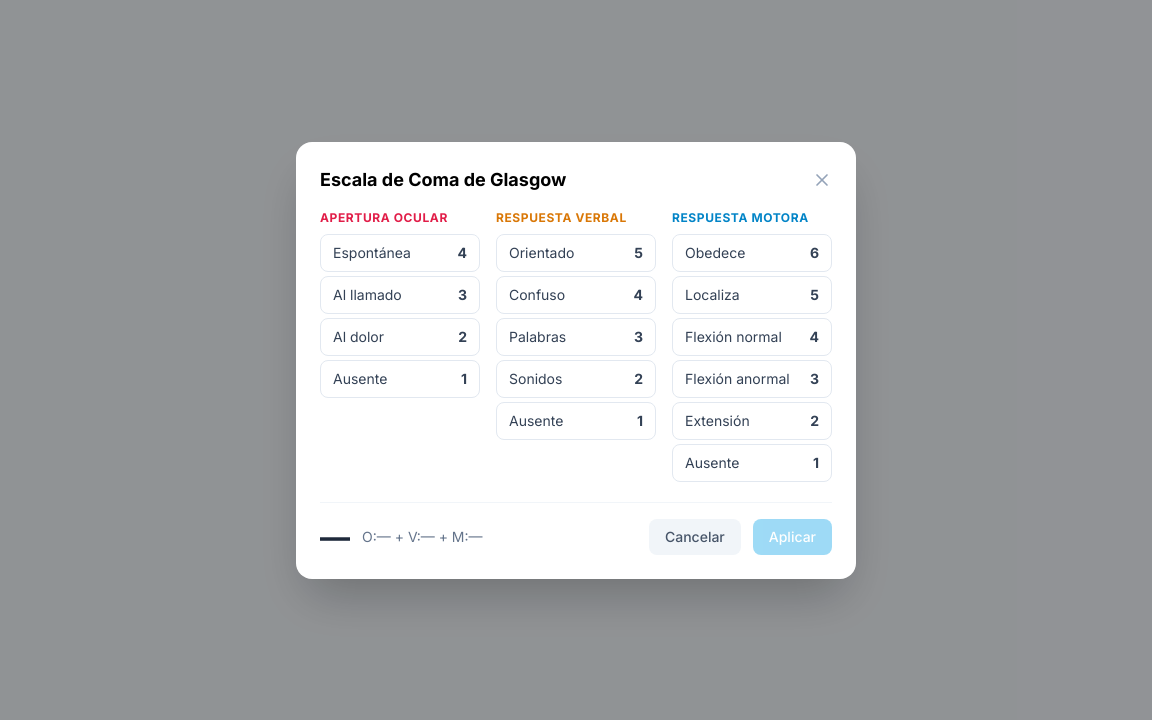
Scenario: KAN-79: GlasgowModal › calcula total moderado (3+3+4=10)
The width and height of the screenshot is (1152, 720).
Click the text "Al llamado" at (367, 294), box [333,284,402,304]
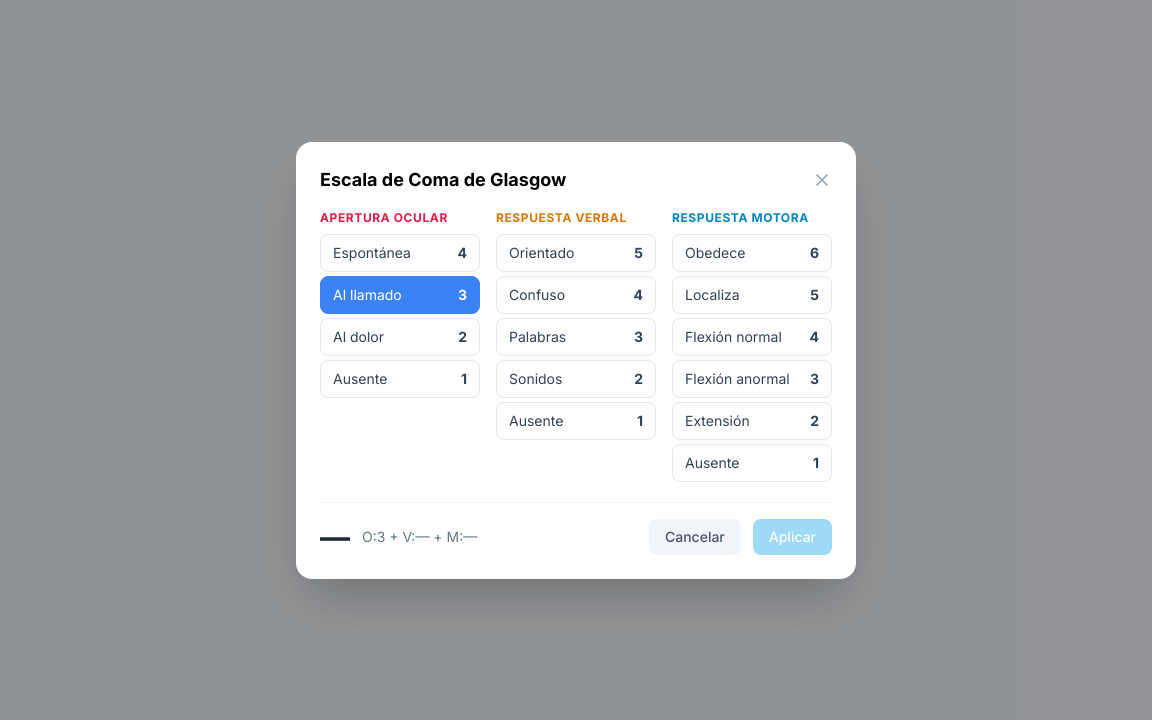
Click the text "Palabras" at (538, 336), box [509,326,566,346]
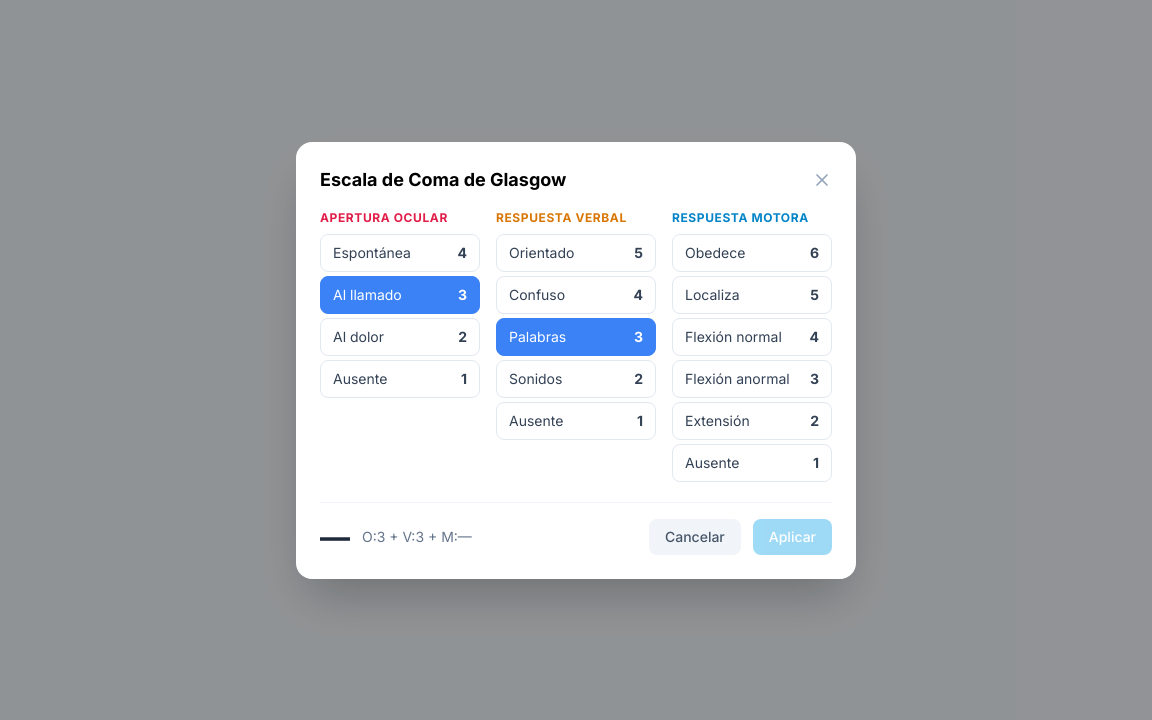
Click the text "Flexión normal" at (733, 336), box [685,326,782,346]
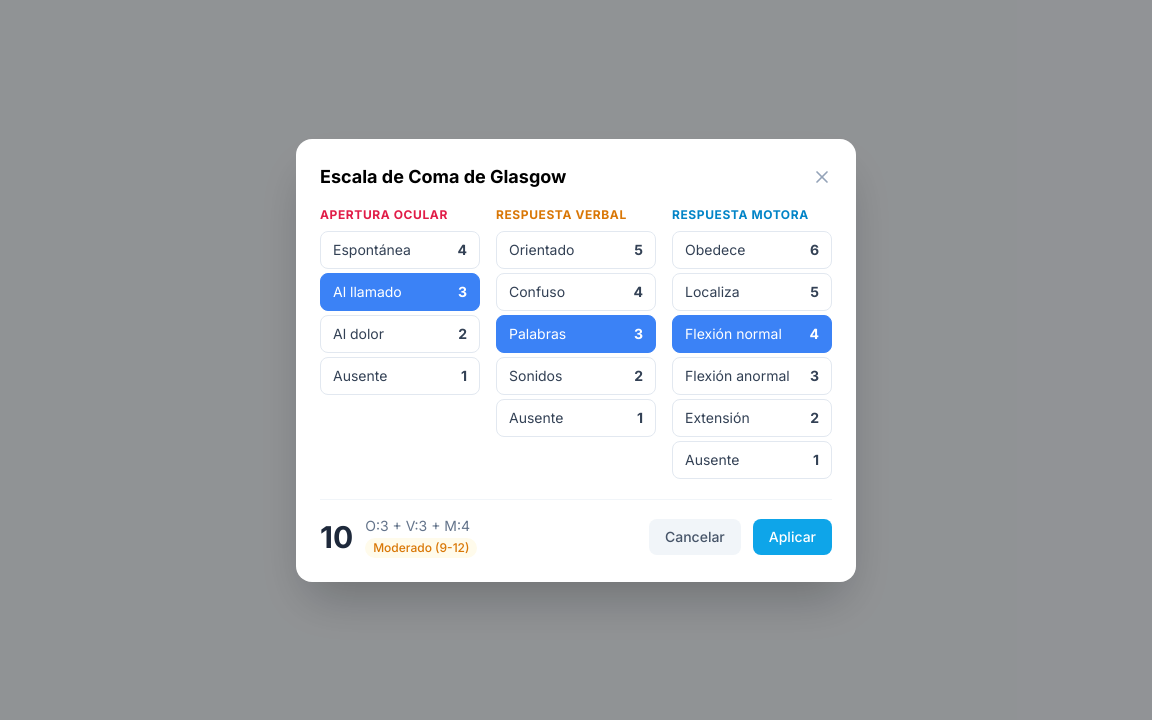
Result: the text "O:3 + V:3 + M:4" is shown at [365,516,478,536]
Result: the text "Moderado (9-12)" is shown at [365,538,478,558]
